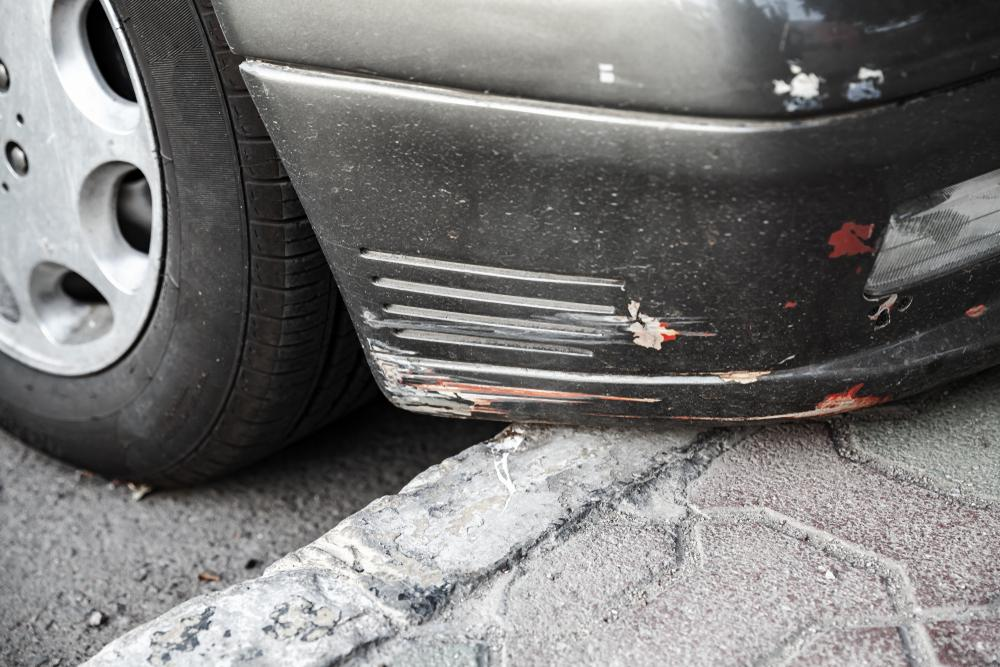scratch: (363, 308, 896, 424)
